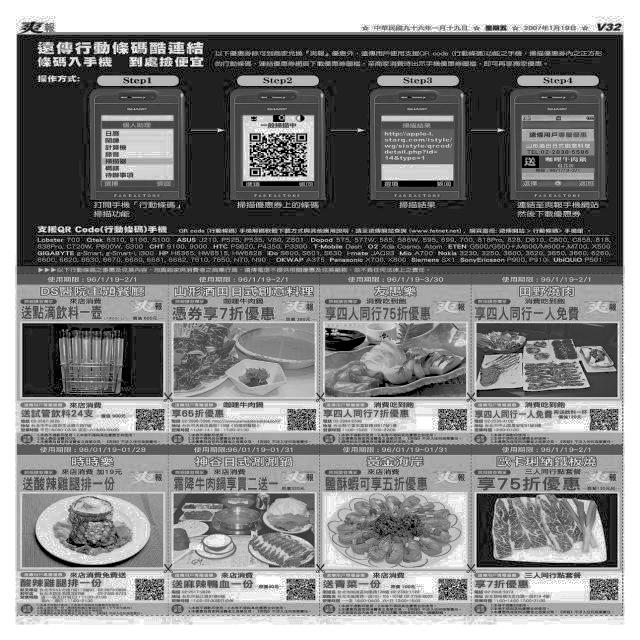qr_code: (250, 134, 307, 176), (135, 579, 164, 600), (438, 579, 467, 600), (439, 409, 467, 430), (288, 409, 316, 430), (590, 409, 618, 430), (136, 409, 164, 430), (590, 579, 618, 600), (287, 579, 315, 600)
